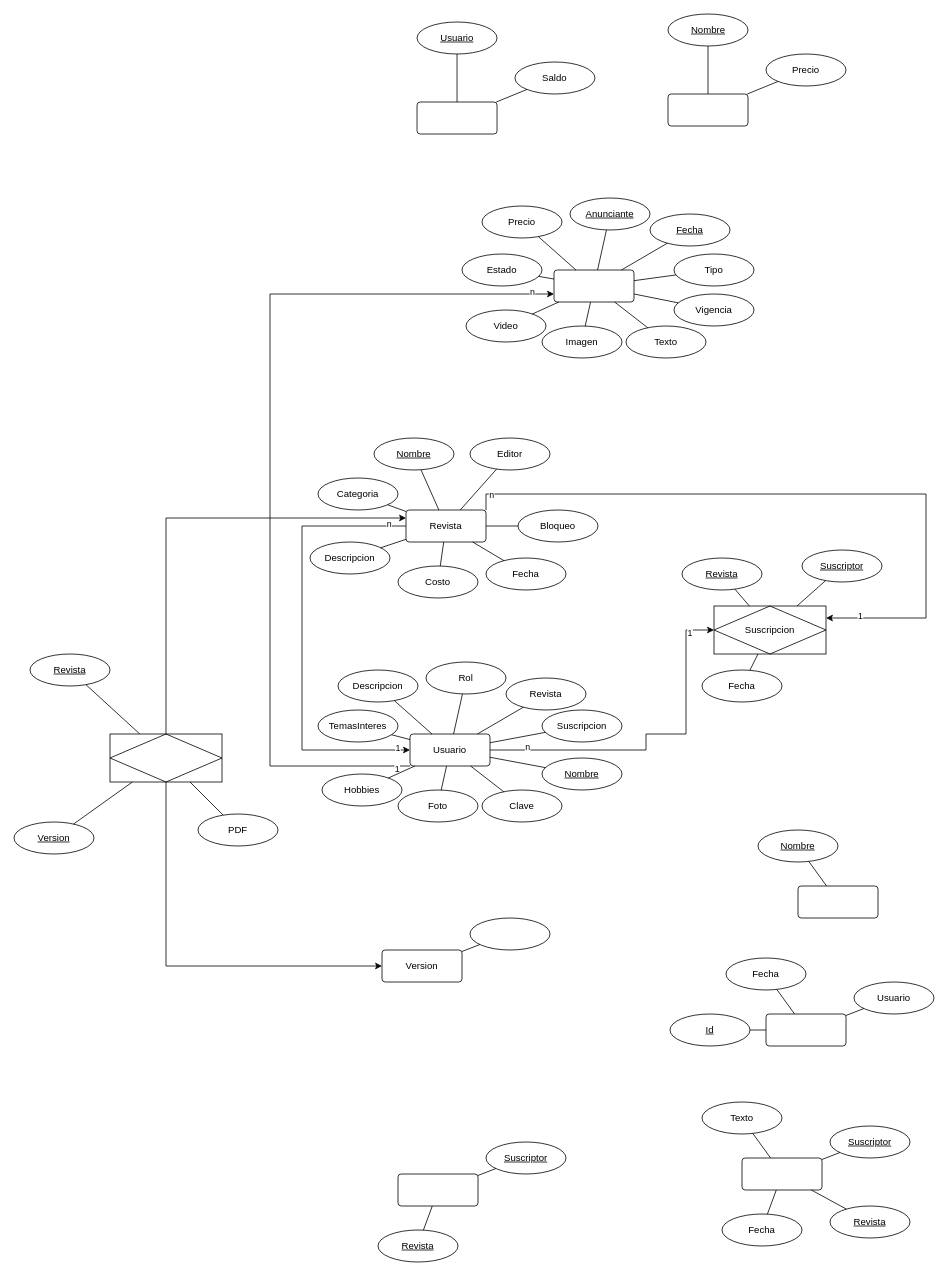
Some shapes in this 948 by 1276 pixel diagram are drawn without their labels. The centre of each missing label's shape, as x and y in pixels:
"Anuncio" belongs at [593,285].
"carteraDigital" belongs at [456,117].
"Comentario" belongs at [781,1173].
"MeGusta" belongs at [437,1189].
"Numero" belongs at [509,933].
"Pago" belongs at [805,1029].
"Publicacion" belongs at [165,757].
"Tag" belongs at [837,901].
"Tipo Anuncio" belongs at [707,109].
